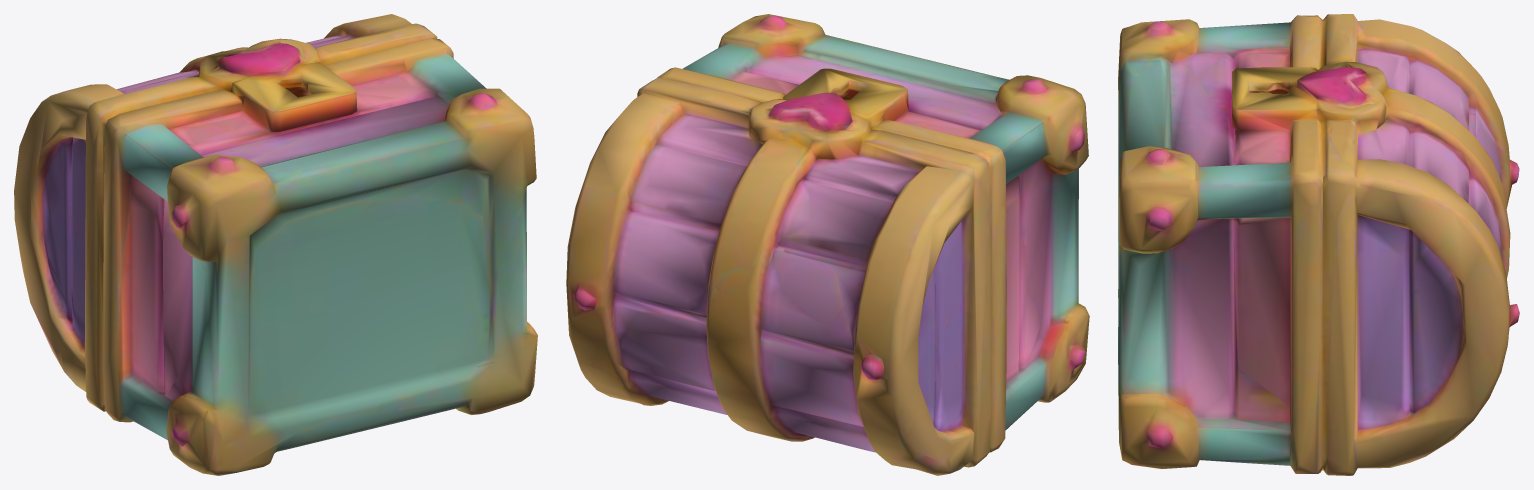
3 views of the same model, side by side, from view 1: azimuth 30°, elevation 25°; view 2: azimuth 150°, elevation 25°; view 3: azimuth 270°, elevation 25° (orthographic).
Parts seen in each view (by area): view 1: material; view 2: material; view 3: material.
Part boxes in pixels (bbox=[...]): material: bbox=[14, 14, 537, 475]; material: bbox=[566, 14, 1089, 475]; material: bbox=[1118, 14, 1519, 475].
Size of the model in its own units: 1 by 0.8671 by 0.9701.
Materials: 1 (1 with a texture image).
